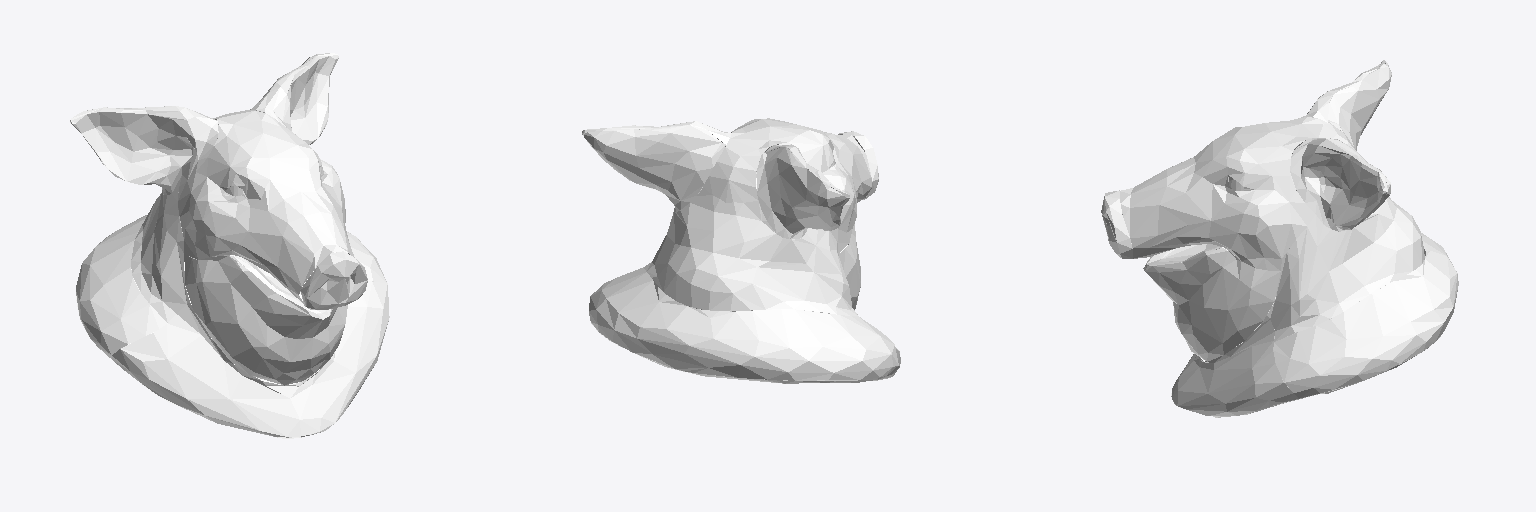
File: pighead.obj
The picture shows the model from 3 angles: view 1: azimuth 30°, elevation 25°; view 2: azimuth 150°, elevation 25°; view 3: azimuth 270°, elevation 25°; orthographic projection.
Parts seen in each view (by area): view 1: subdivide1__0; view 2: subdivide1__0; view 3: subdivide1__0.
Part boxes in pixels (bbox=[...]): subdivide1__0: bbox=[70, 53, 389, 438]; subdivide1__0: bbox=[582, 118, 900, 383]; subdivide1__0: bbox=[1101, 60, 1458, 417].
Size of the model in its own units: 1.97 by 1.89 by 2.18.